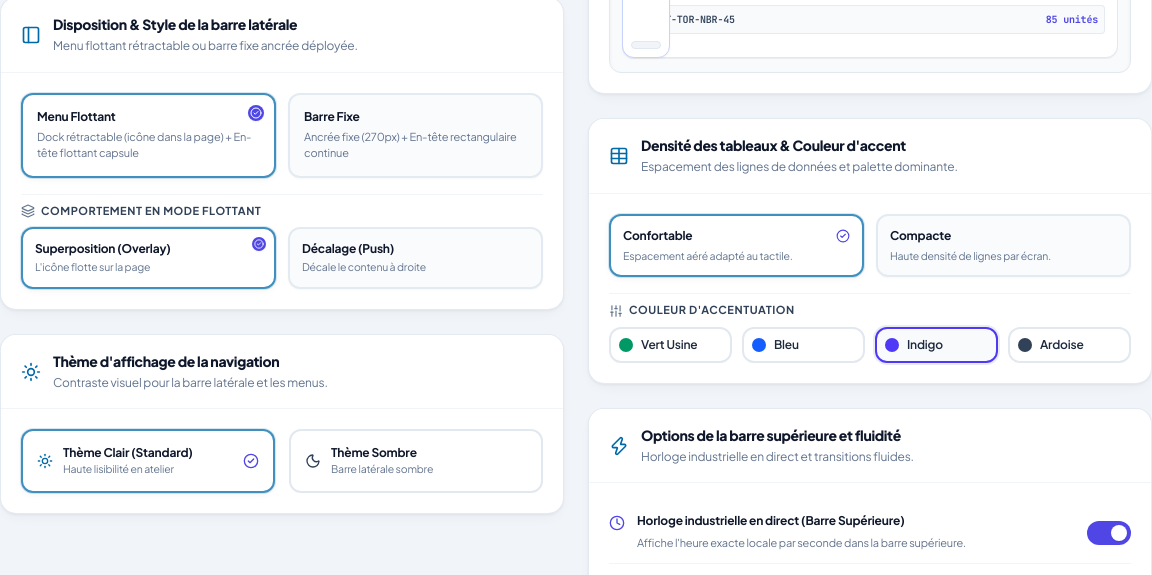
Scenario: Phase A — Header, Sidebar & MainLayout P0 Security, Cold Boot & Unified Tools › Phase B (AppearanceLayoutSelector): dispatches gmao_appearance_changed once per change, updates dark live preview, and resets desktop sidebar collapse on factor
Later steps or results of the test are not shown.
(page scrolled)
Click the button "Thème Sombre Barre latérale sombre": (416, 461) [289,429,543,493]
(page scrolled)
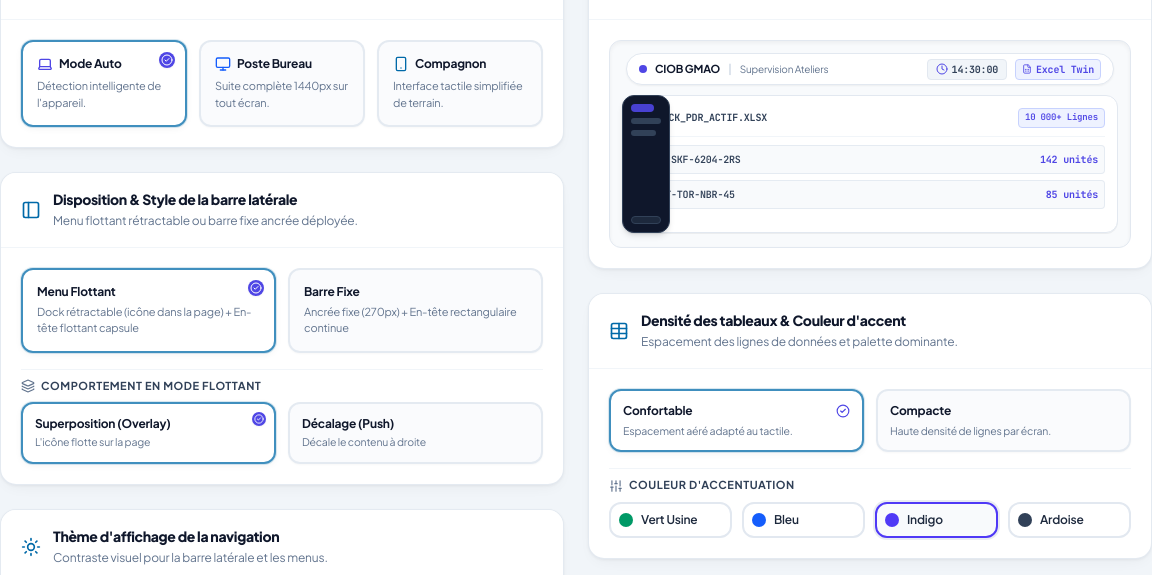
Expected: the button "Poste Bureau Suite complète 1440px sur tout écran." is shown, [199,40,365,127]
Now the element with test id "appearance-preview-sidebar" has class "bg-slate-900", box [622,95,670,233]
